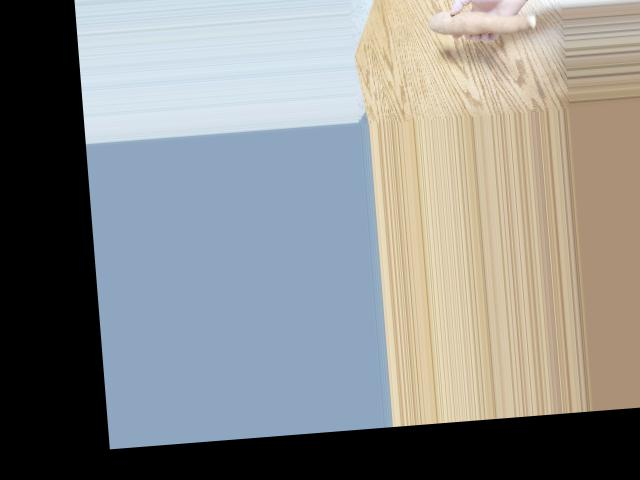sweet_potato: (428, 10, 529, 45)
